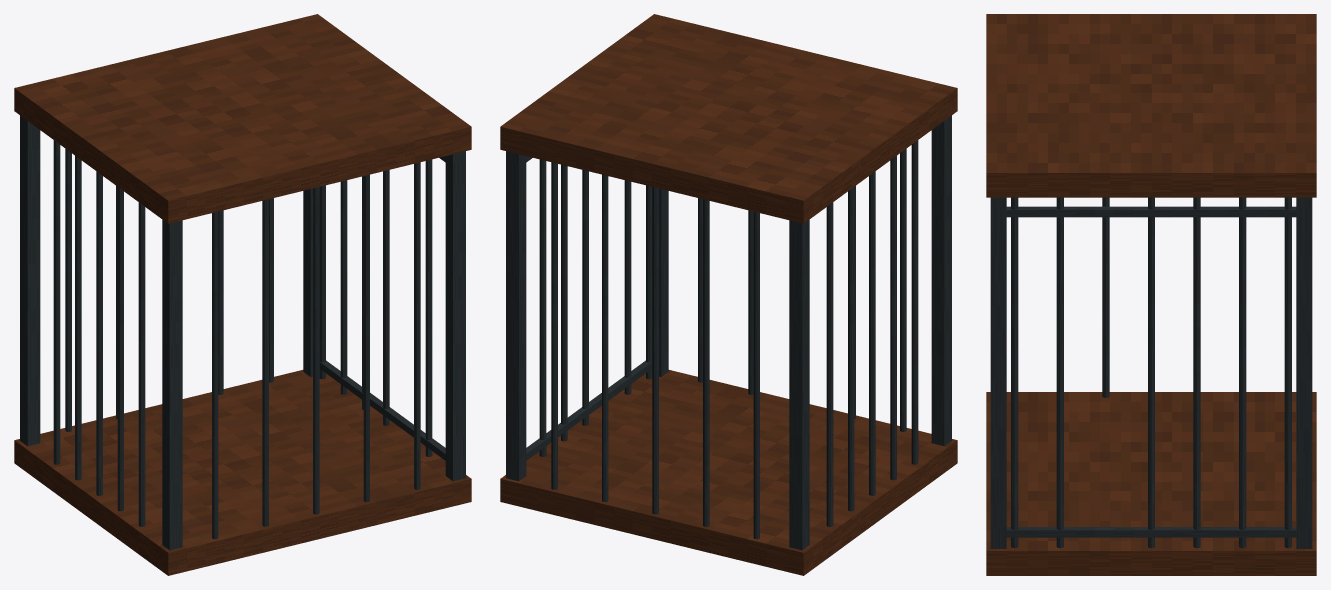
Rendered from SM_prison_cage.gltf.
3 renders of one model, left to right at view 1: azimuth 30°, elevation 25°; view 2: azimuth 150°, elevation 25°; view 3: azimuth 270°, elevation 25°, orthographic. The views are drawn at different scales.
Parts seen in each view (by area): view 1: root, door; view 2: root, door; view 3: root, door.
Part boxes in pixels (box(x1,y1,x2,y2)): root: box(14, 14, 471, 575); door: box(319, 156, 445, 460); root: box(500, 14, 957, 575); door: box(526, 156, 652, 460); root: box(986, 14, 1316, 575); door: box(1006, 197, 1296, 548).
Size of the model in its own units: 1.65 by 1.96 by 1.45.
2 materials, 2 textured.
